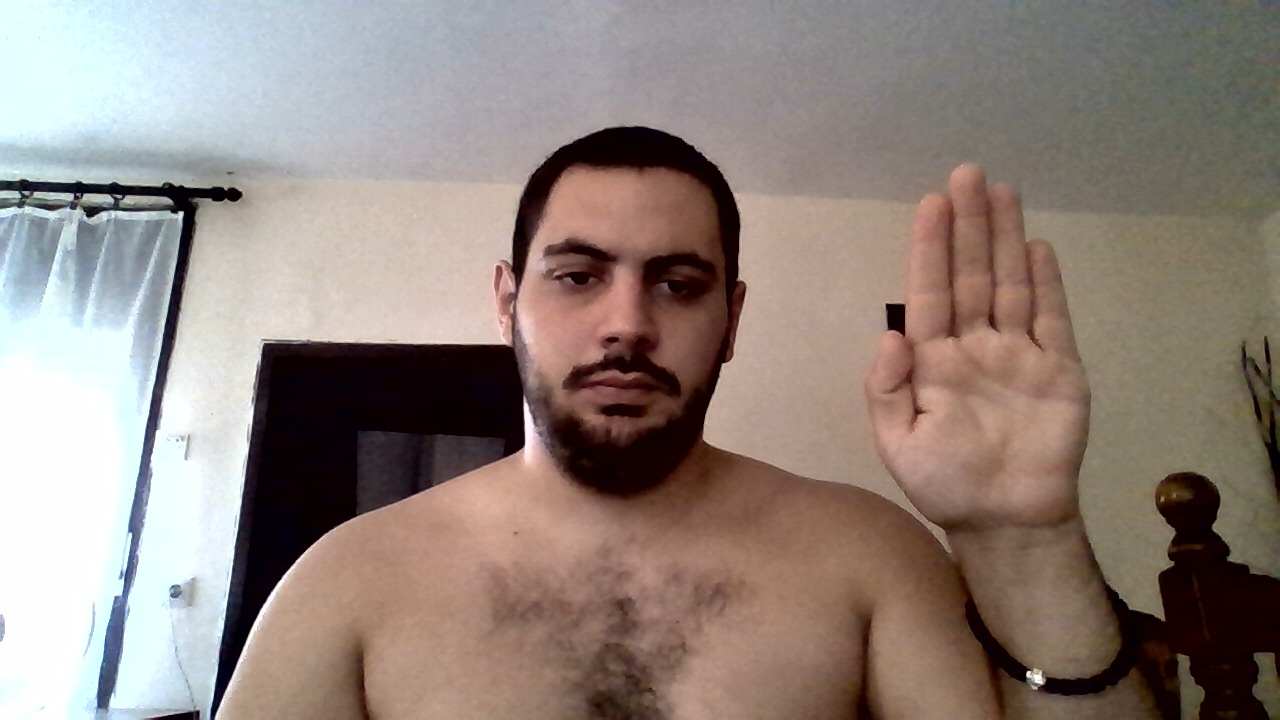palm: (867, 161, 1090, 522)
